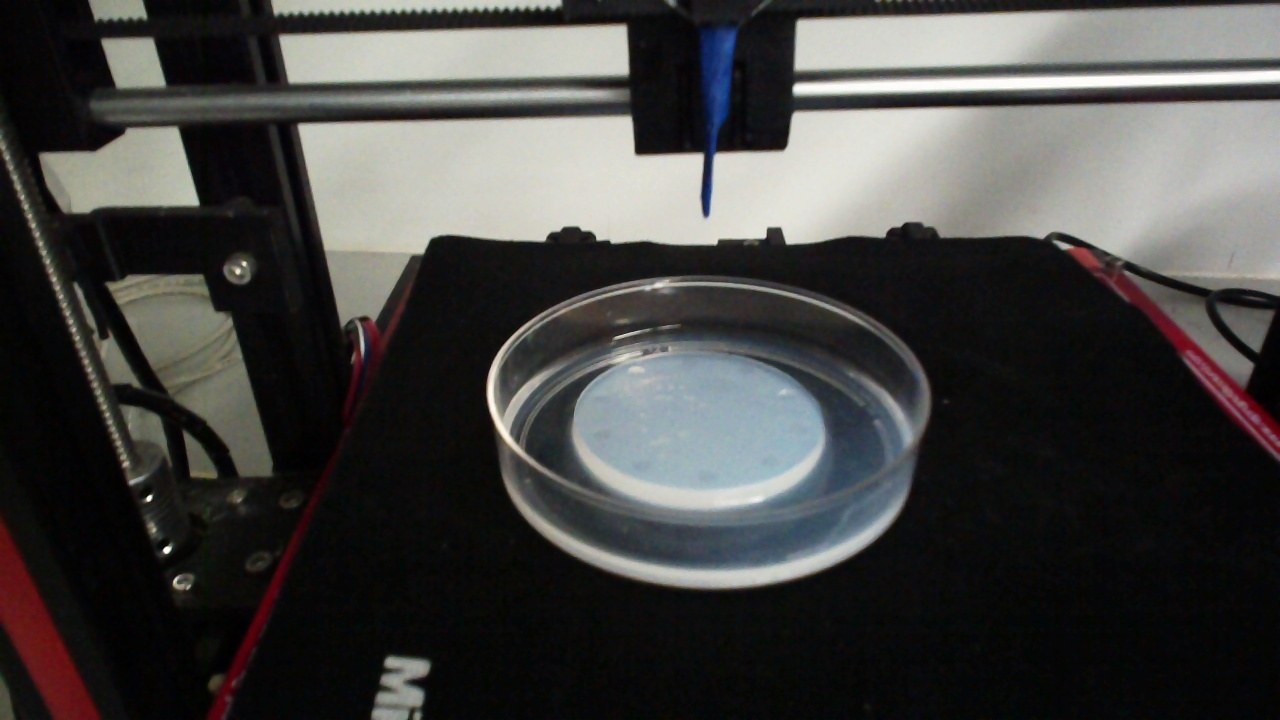groove: (694, 469, 720, 485), (786, 421, 809, 439), (758, 453, 781, 470), (590, 426, 613, 442), (631, 457, 652, 473), (778, 387, 799, 403), (590, 390, 612, 404), (737, 361, 755, 376), (680, 355, 699, 368), (627, 365, 645, 378)
needle: (698, 26, 736, 218)
